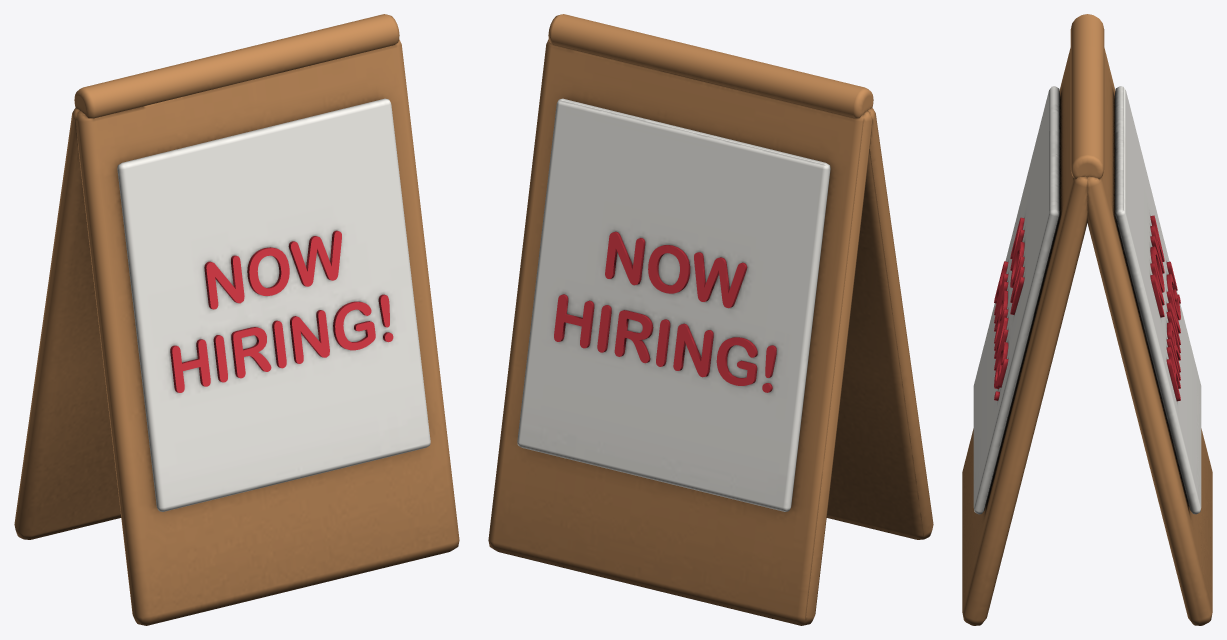
Rendered from now_hiring_sign.glb.
3 renders of one model, left to right at view 1: azimuth 30°, elevation 25°; view 2: azimuth 150°, elevation 25°; view 3: azimuth 270°, elevation 25°, orthographic. The views are drawn at different scales.
Visible parts, largest first — view 1: now_hiring_sign; view 2: now_hiring_sign; view 3: now_hiring_sign.
Boxes of the visible parts, <box> form: now_hiring_sign: <box>14,14,459,625</box>; now_hiring_sign: <box>488,14,933,625</box>; now_hiring_sign: <box>962,14,1212,625</box>.
Bounding box in the file's own units: 0.64 × 0.932 × 0.4488.
Materials: 4 (4 with a texture image).
